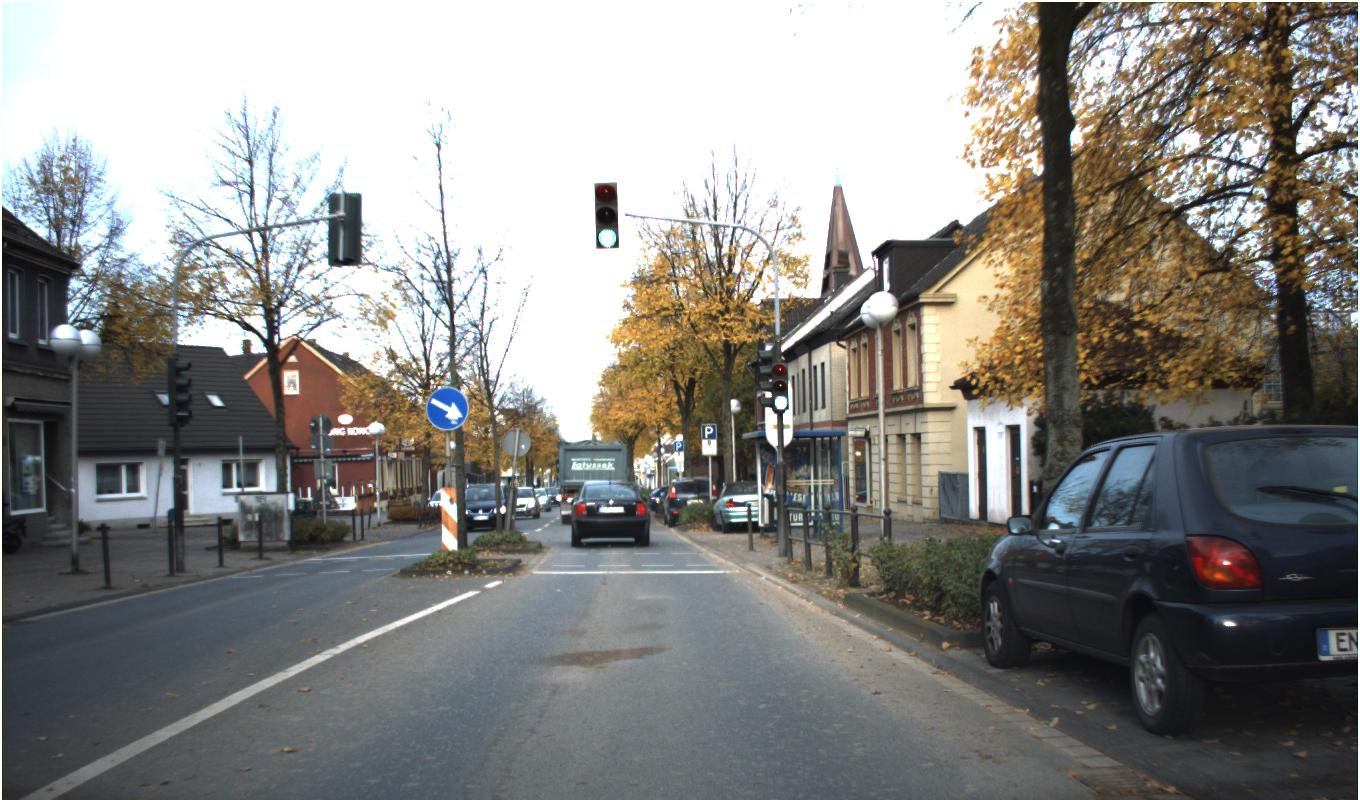mandatory: (425, 386, 468, 431)
